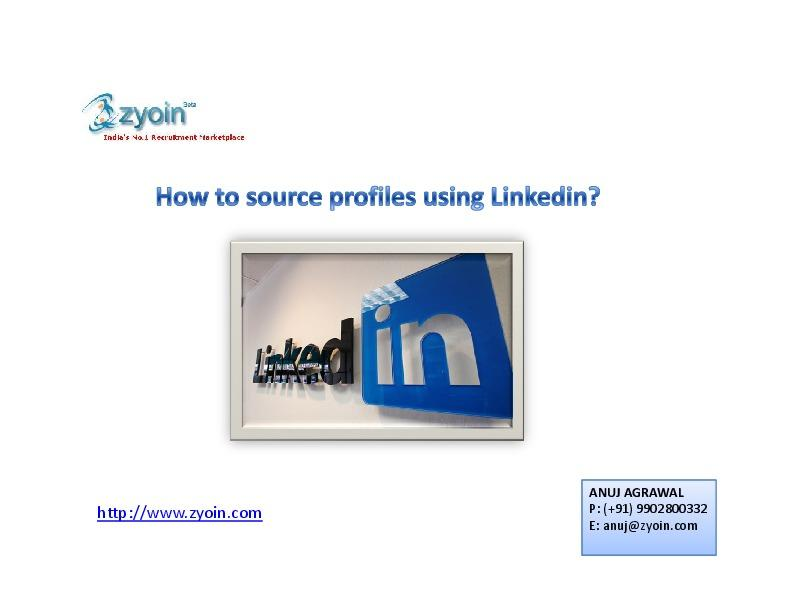title: (151, 157, 626, 225)
